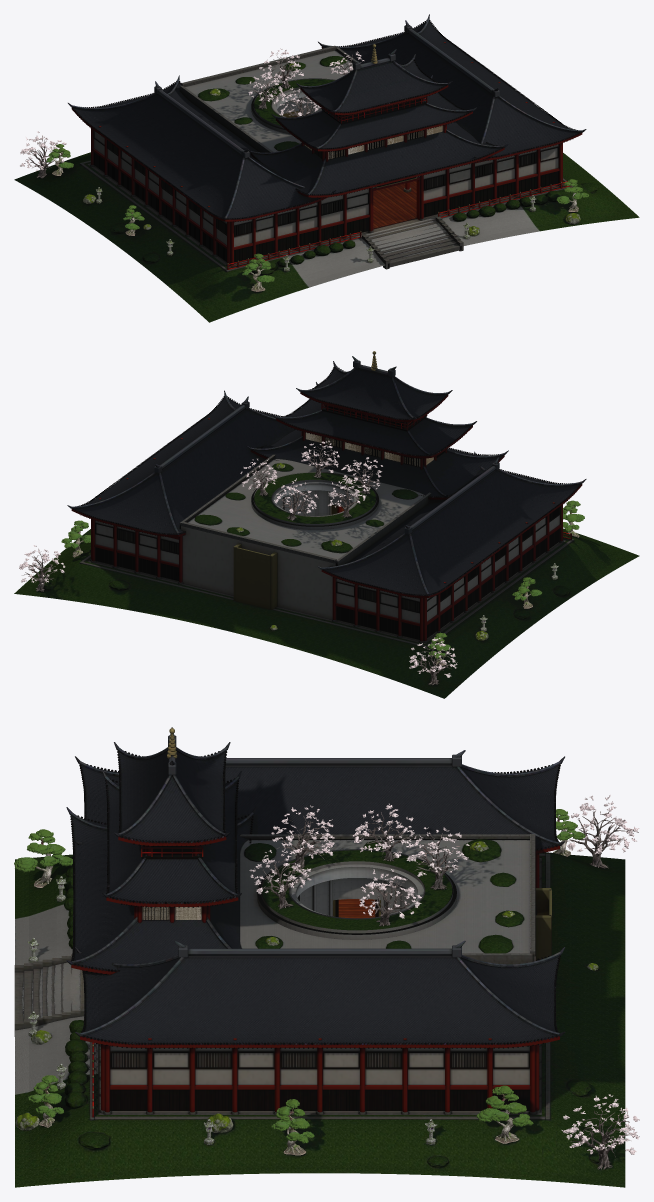
The model's file is temple.glb.
The picture shows the model from 3 angles, top to bottom: view 1: azimuth 30°, elevation 25°; view 2: azimuth 150°, elevation 25°; view 3: azimuth 270°, elevation 25°; orthographic projection. The views are drawn at different scales.
Visible parts, largest first — view 1: T_roof, T_grounds, T_ext, T_ext_d, T_roof_d, T_pav, P_cherry, P_cherry.003, P_pine, P_cherry.004, P_cherry.005, T_inner (+2 smaller); view 2: T_roof, T_grounds, T_ext, T_roof_d, T_ext_d, T_inner, P_cherry, P_cherry.001, P_cherry.003, P_cherry.005, P_cherry.006, P_cherry.002 (+3 smaller); view 3: T_roof, T_grounds, T_ext, T_roof_d, T_ext_d, T_inner, P_cherry.001, P_cherry, P_pine.005, P_pine, P_cherry.005, P_cherry.003 (+7 smaller).
Boxes of the visible parts, x1=… form: T_roof: x1=71, y1=21, x2=582, y2=221; T_grounds: x1=14, y1=152, x2=639, y2=322; T_ext: x1=79, y1=98, x2=574, y2=271; T_ext_d: x1=93, y1=42, x2=571, y2=269; T_roof_d: x1=68, y1=14, x2=586, y2=221; T_pav: x1=373, y1=180, x2=416, y2=229; P_cherry: x1=20, y1=131, x2=66, y2=178; P_cherry.003: x1=259, y1=48, x2=303, y2=88; P_pine: x1=242, y1=253, x2=274, y2=291; P_cherry.004: x1=248, y1=72, x2=285, y2=108; P_cherry.005: x1=279, y1=87, x2=321, y2=116; T_inner: x1=256, y1=97, x2=321, y2=120; T_roof: x1=71, y1=351, x2=582, y2=597; T_grounds: x1=14, y1=528, x2=639, y2=698; T_ext: x1=79, y1=405, x2=574, y2=647; T_roof_d: x1=67, y1=356, x2=586, y2=598; T_ext_d: x1=95, y1=403, x2=571, y2=639; T_inner: x1=233, y1=490, x2=352, y2=609; P_cherry: x1=409, y1=637, x2=457, y2=684; P_cherry.001: x1=19, y1=545, x2=65, y2=591; P_cherry.003: x1=274, y1=478, x2=318, y2=520; P_cherry.005: x1=341, y1=457, x2=382, y2=493; P_cherry.006: x1=301, y1=441, x2=339, y2=477; P_cherry.002: x1=240, y1=458, x2=277, y2=495; T_roof: x1=71, y1=728, x2=559, y2=1047; T_grounds: x1=15, y1=852, x2=625, y2=1187; T_ext: x1=14, y1=839, x2=550, y2=1120; T_roof_d: x1=66, y1=727, x2=565, y2=1048; T_ext_d: x1=92, y1=845, x2=529, y2=1117; T_inner: x1=297, y1=878, x2=551, y2=960; P_cherry.001: x1=561, y1=1094, x2=639, y2=1169; P_cherry: x1=563, y1=795, x2=638, y2=868; P_pine.005: x1=476, y1=1085, x2=533, y2=1143; P_pine: x1=14, y1=829, x2=72, y2=887; P_cherry.005: x1=271, y1=805, x2=334, y2=869; P_cherry.003: x1=406, y1=827, x2=469, y2=889.
Size of the model in its own units: 84.33 by 35.24 by 67.72.
Materials: 15 (15 with a texture image).
